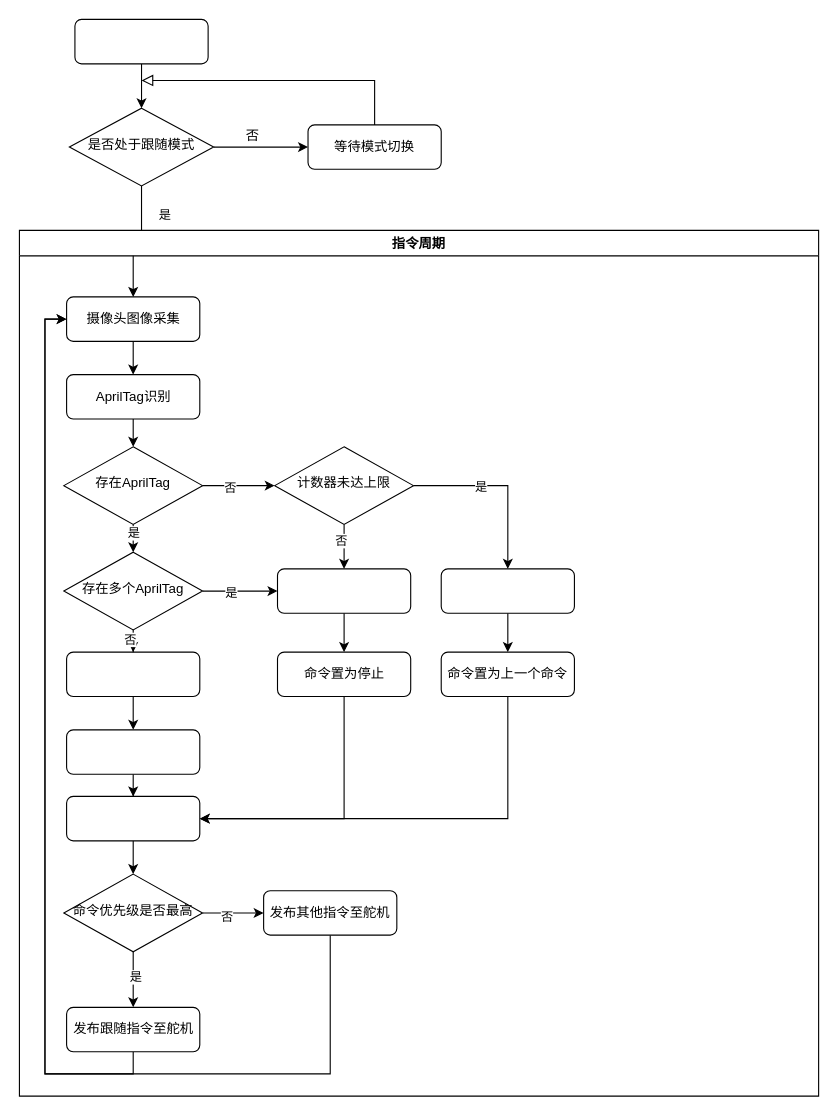
Image size: 838x1116. Some labels were removed from this diagram. The centre of each missing label's shape, as x and y in pixels:
等待回调函数: (x=132, y=818)
系统启动并初始化: (x=141, y=41)
计数器归零: (x=343, y=590)
计数器递增: (x=507, y=590)
计数器重置/AprilTag定位: (x=132, y=674)
跟随指令生成并发布: (x=132, y=751)
